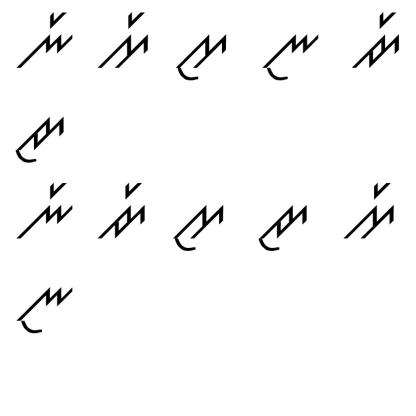jar: (94, 179, 153, 246), (350, 8, 406, 74)
jaw: (247, 196, 312, 262), (11, 110, 68, 167)
nyar: (14, 6, 76, 75), (7, 181, 74, 242)
nyaw: (260, 25, 324, 83), (15, 279, 76, 335)
sar: (337, 178, 399, 247), (89, 8, 153, 74)
saw: (170, 194, 231, 257), (173, 23, 230, 86)
